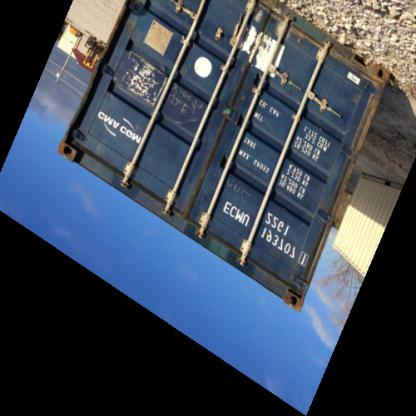Damage: (123, 50, 161, 106), (168, 78, 208, 130), (347, 88, 375, 161), (282, 277, 304, 305)
